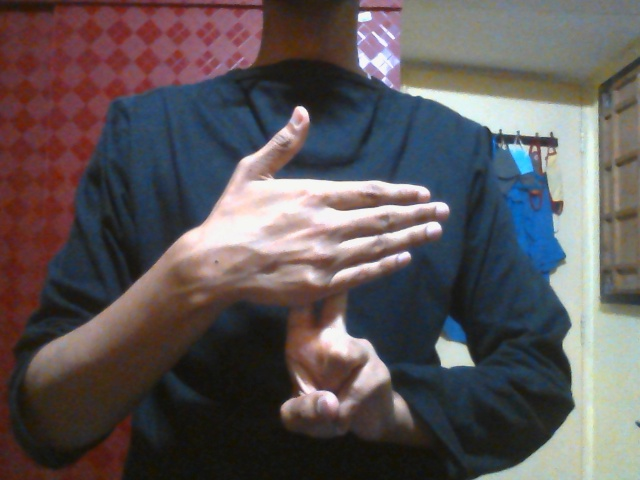N: (216, 106, 446, 450)
